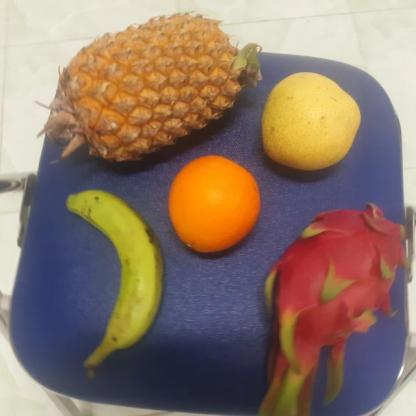banana: (69, 190, 166, 352)
orange: (166, 156, 264, 254)
pear: (261, 71, 364, 175)
pineapple: (60, 13, 254, 166)
pitaya: (256, 209, 412, 396)
